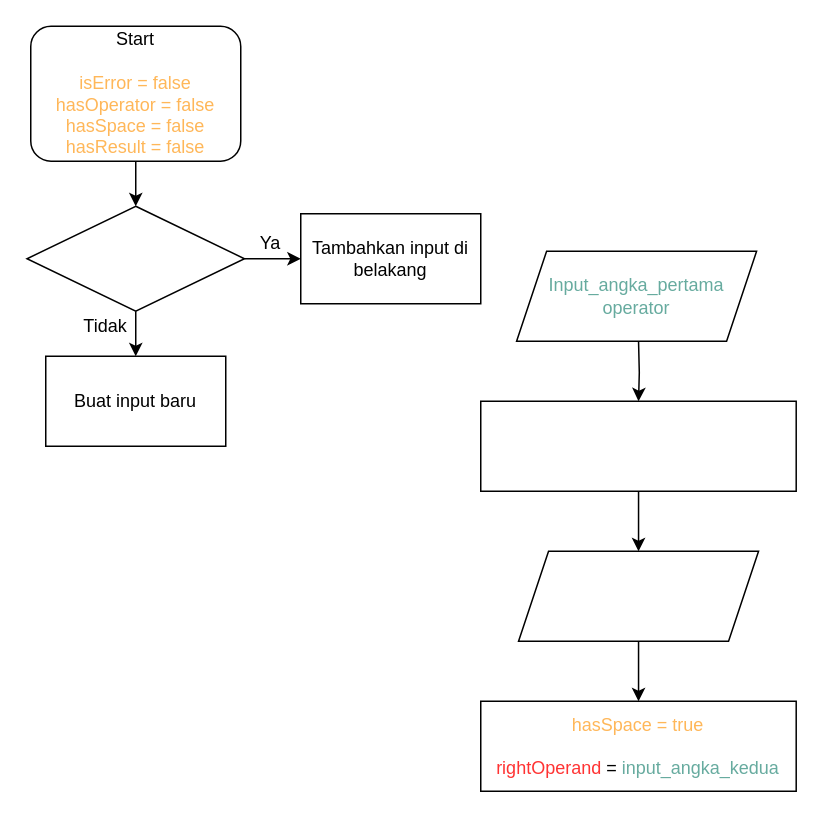
Some shapes in this 822 by 818 pixel diagram are drawn without their labels. Each missing label, with the box of its shape:
hasOperator = true leftOperand = input_angka_pertama operationSign = operator: (479, 400, 796, 491)
Input_angka_kedua: (517, 550, 759, 641)
sudah ada input sebelumnya?: (26, 205, 244, 311)
